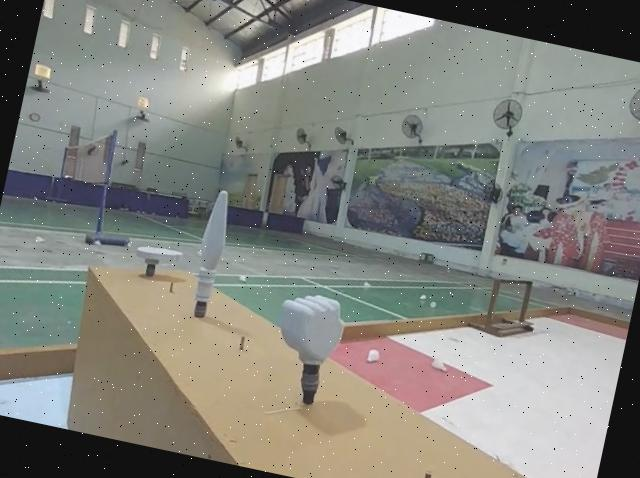Fist: (262, 284, 353, 408)
Hand: (130, 240, 187, 287)
Sph: (182, 185, 239, 322)
